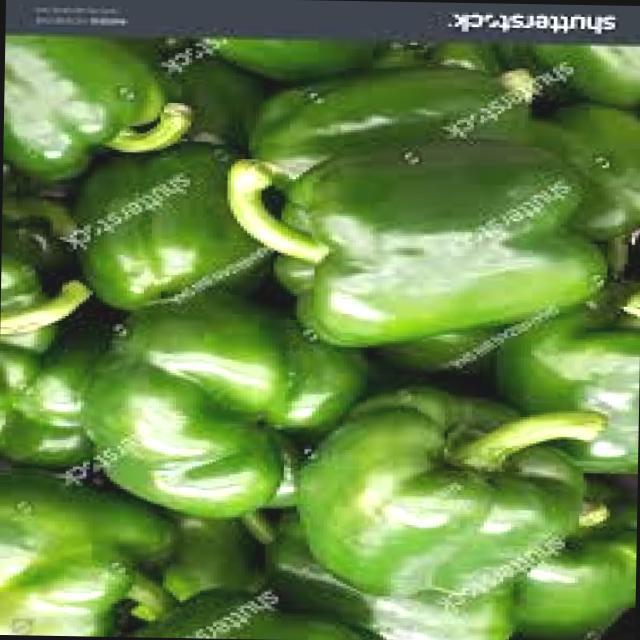Capsicum: (242, 139, 606, 345), (298, 394, 603, 600), (81, 356, 285, 518), (77, 145, 273, 310), (0, 472, 167, 640)
